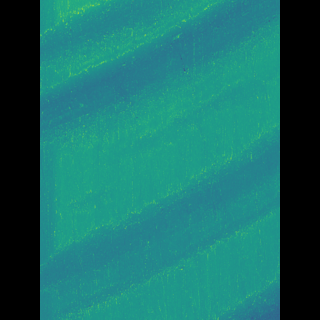Loch: (68, 110, 250, 319), (69, 0, 250, 149)
